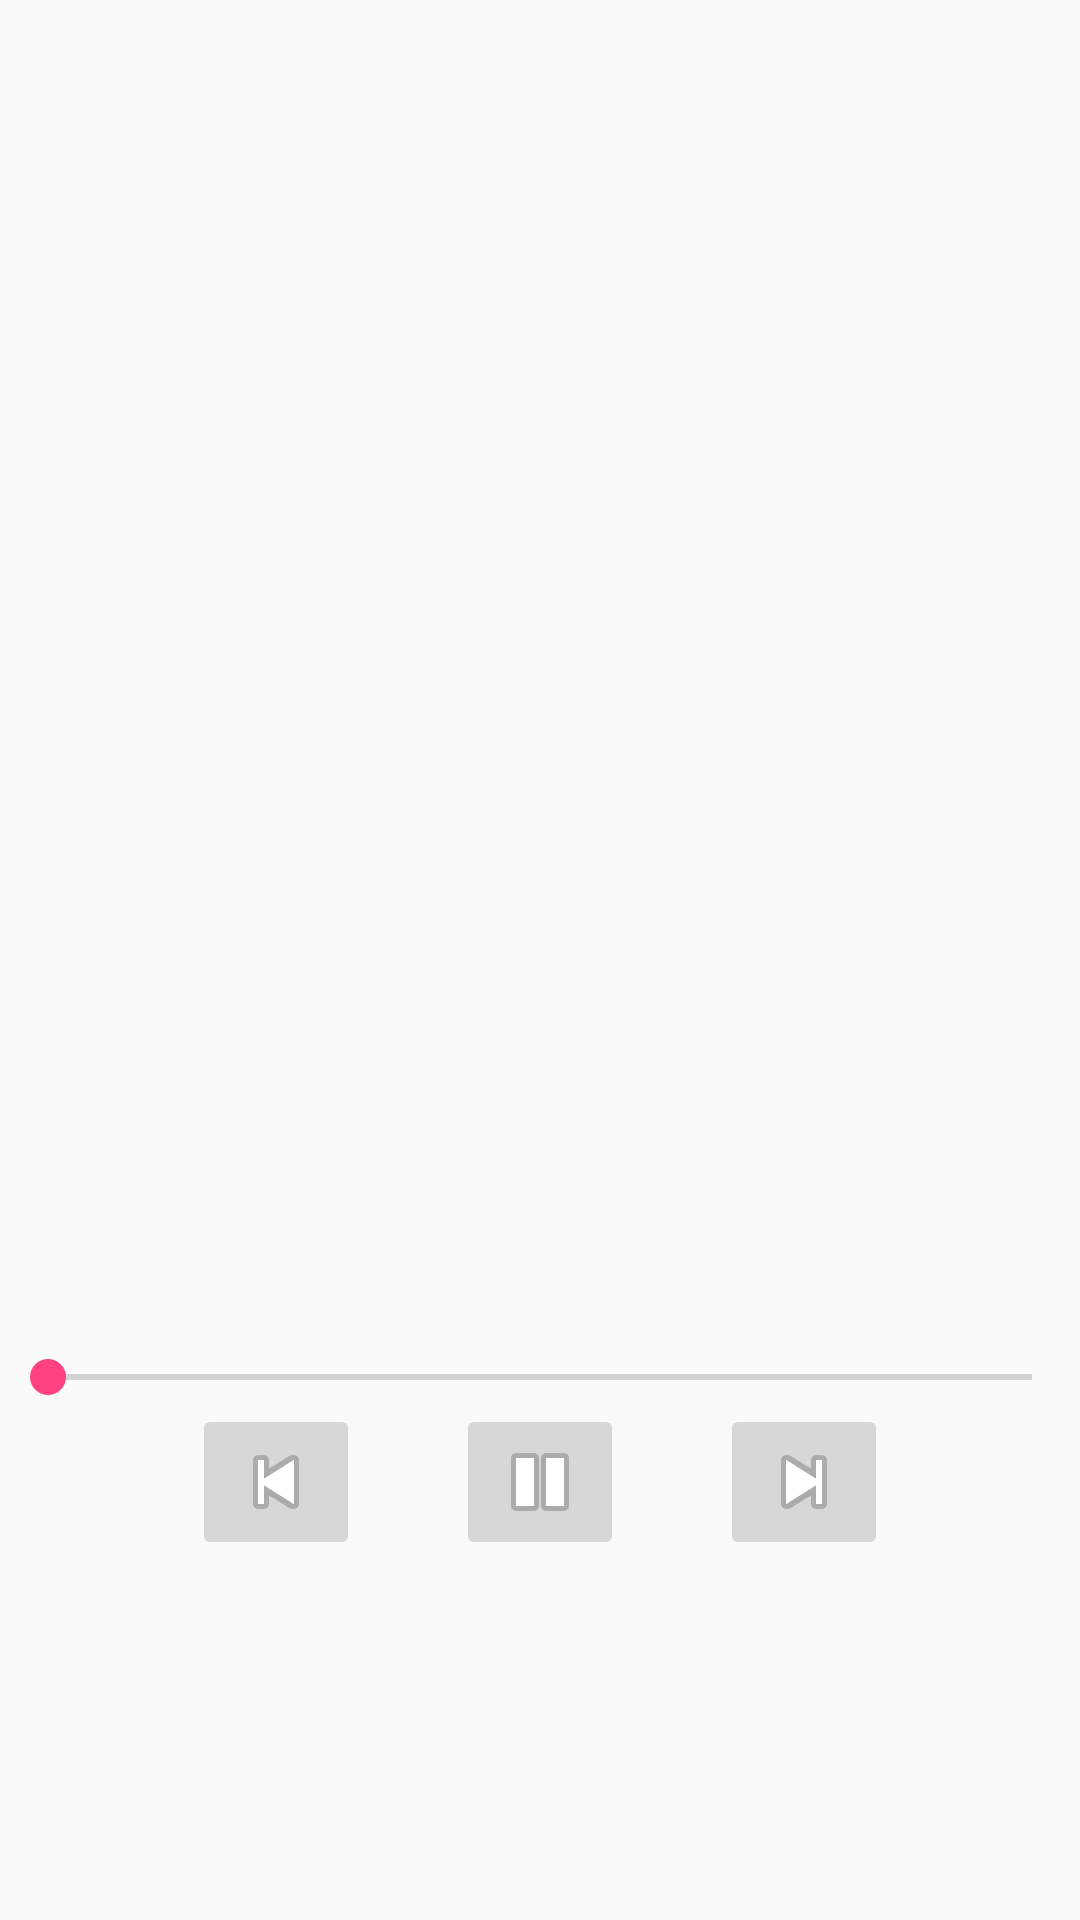

Icons on this 1080px×1920px Android screen, each with its box as (x1, y1, x2, y2):
next: (732, 1422, 876, 1542)
pause: (468, 1422, 612, 1542)
previous: (204, 1422, 348, 1542)
